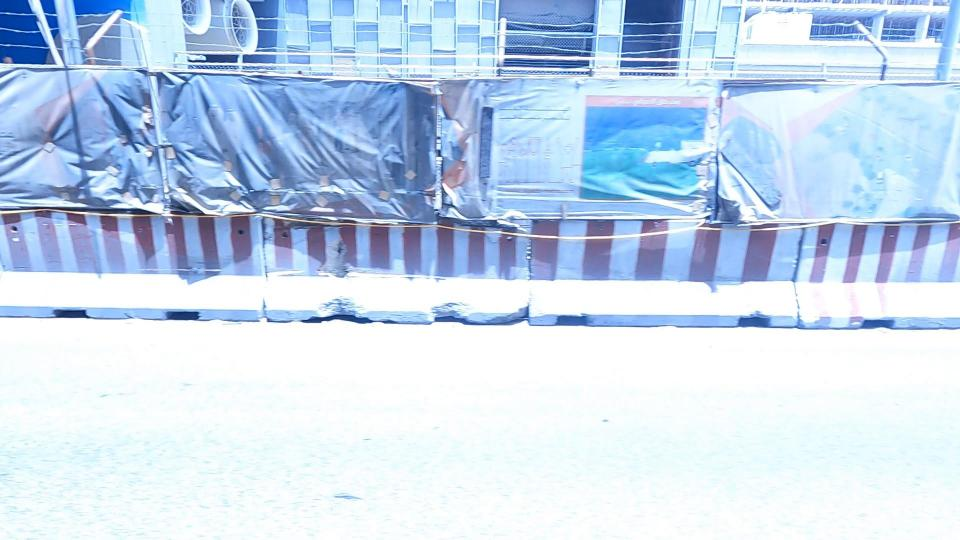CONSTRUCTION_ROAD: (211, 68, 714, 410), (481, 80, 960, 420), (0, 81, 413, 390)
